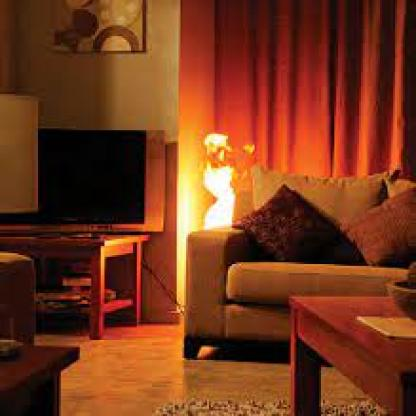fire: (204, 122, 258, 229)
